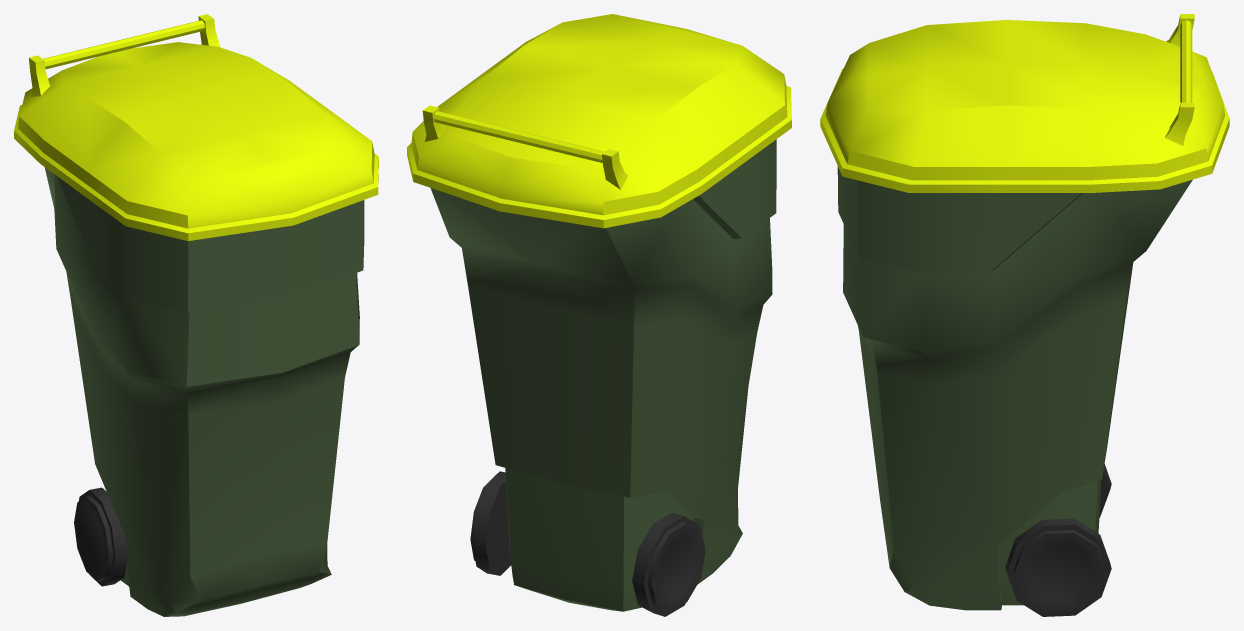
The model's file is Trashcan_Yellow.fbx.
The picture shows the model from 3 angles, left to right: view 1: azimuth 30°, elevation 25°; view 2: azimuth 150°, elevation 25°; view 3: azimuth 270°, elevation 25°; orthographic projection. The views are drawn at different scales.
Parts seen in each view (by area): view 1: Trashcan_Yellow; view 2: Trashcan_Yellow; view 3: Trashcan_Yellow.
Part boxes in pixels (box(x1,y1,x2,y2)): Trashcan_Yellow: box(14, 14, 378, 616); Trashcan_Yellow: box(407, 14, 791, 616); Trashcan_Yellow: box(820, 14, 1229, 616).
Size of the model in its own units: 122 by 221 by 159.
